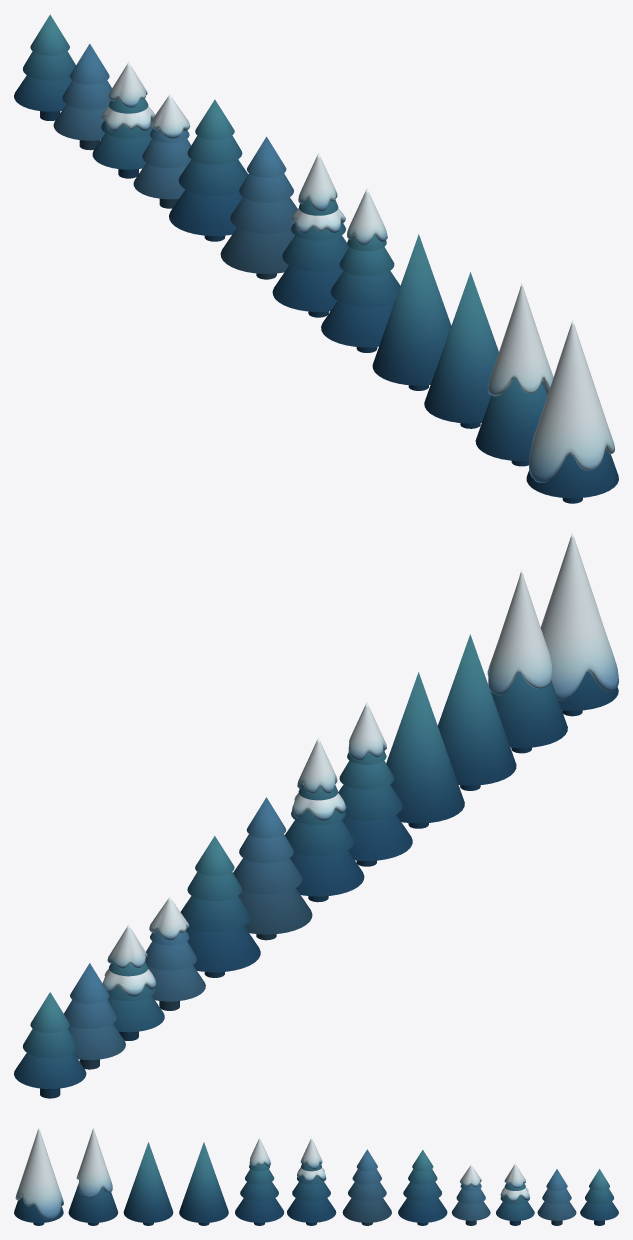
File: trees.fbx
3 renders of one model, top to bottom at view 1: azimuth 30°, elevation 25°; view 2: azimuth 150°, elevation 25°; view 3: azimuth 270°, elevation 25°, orthographic. The views are drawn at different scales.
Visible parts, largest first — view 1: Icing.000, Tree.003, Tree.010, Tree.009, Tree.002, Tree.008, Tree.006, Tree.001, Icing.002, Tree.017, Tree.016, Tree.011 (+8 smaller); view 2: Icing.000, Tree.003, Tree.002, Tree.010, Tree.009, Tree.008, Tree.006, Icing.002, Tree.017, Tree.001, Tree.016, Tree.011 (+8 smaller); view 3: Icing.000, Tree.002, Tree.003, Tree.009, Tree.010, Tree.008, Tree.006, Icing.002, Tree.001, Tree.016, Tree.017, Tree.011 (+8 smaller).
Part boxes in pixels (x1=…): Icing.000: x1=529, y1=320, x2=614, y2=482; Tree.003: x1=372, y1=234, x2=451, y2=385; Tree.010: x1=169, y1=99, x2=248, y2=235; Tree.009: x1=220, y1=136, x2=297, y2=273; Tree.002: x1=424, y1=272, x2=498, y2=423; Tree.008: x1=321, y1=235, x2=400, y2=347; Tree.006: x1=272, y1=199, x2=349, y2=311; Tree.001: x1=475, y1=377, x2=547, y2=460; Icing.002: x1=487, y1=283, x2=553, y2=396; Tree.017: x1=14, y1=14, x2=75, y2=111; Tree.016: x1=53, y1=43, x2=111, y2=140; Tree.011: x1=133, y1=128, x2=191, y2=199; Icing.000: x1=540, y1=533, x2=618, y2=700; Tree.003: x1=386, y1=672, x2=464, y2=823; Tree.002: x1=438, y1=634, x2=516, y2=785; Tree.010: x1=180, y1=836, x2=260, y2=972; Tree.009: x1=233, y1=797, x2=312, y2=934; Tree.008: x1=338, y1=750, x2=412, y2=860; Tree.006: x1=285, y1=785, x2=364, y2=896; Icing.002: x1=487, y1=569, x2=552, y2=695; Tree.017: x1=14, y1=992, x2=86, y2=1088; Tree.001: x1=490, y1=672, x2=567, y2=747; Tree.016: x1=64, y1=963, x2=125, y2=1059; Tree.011: x1=145, y1=930, x2=205, y2=1001; Icing.000: x1=15, y1=1127, x2=63, y2=1219; Tree.002: x1=123, y1=1142, x2=173, y2=1222; Tree.003: x1=179, y1=1142, x2=228, y2=1222; Tree.009: x1=342, y1=1149, x2=391, y2=1222; Tree.010: x1=398, y1=1150, x2=447, y2=1222; Tree.008: x1=235, y1=1163, x2=284, y2=1222; Tree.006: x1=287, y1=1163, x2=336, y2=1222; Icing.002: x1=76, y1=1127, x2=112, y2=1198; Tree.001: x1=68, y1=1184, x2=118, y2=1222; Tree.016: x1=537, y1=1169, x2=576, y2=1220; Tree.017: x1=580, y1=1169, x2=618, y2=1220; Tree.011: x1=451, y1=1183, x2=490, y2=1220.
Bounding box in the file's own units: 41.53 × 87.1 × 494.
